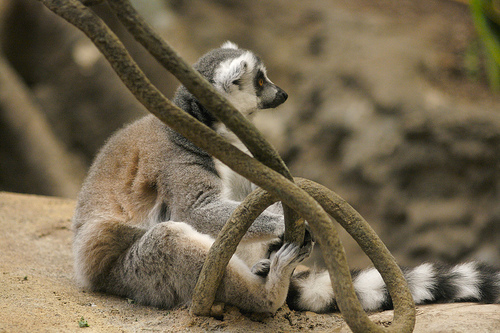cat: (70, 41, 499, 314)
